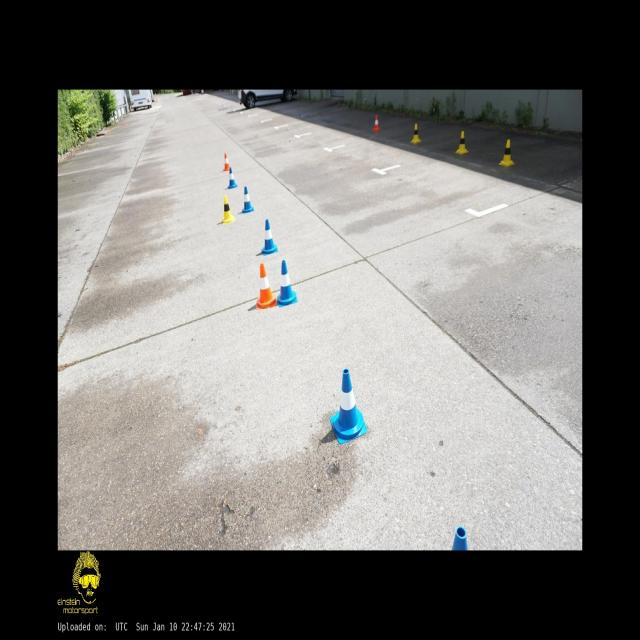blue_cone: (330, 369, 367, 444), (277, 260, 297, 306), (261, 219, 278, 255), (242, 186, 254, 214), (228, 167, 238, 189)
orange_cone: (256, 264, 276, 310), (222, 153, 230, 171), (372, 114, 381, 130)
yellow_cone: (499, 140, 515, 166), (222, 195, 235, 224), (455, 130, 468, 154), (411, 124, 422, 144)
